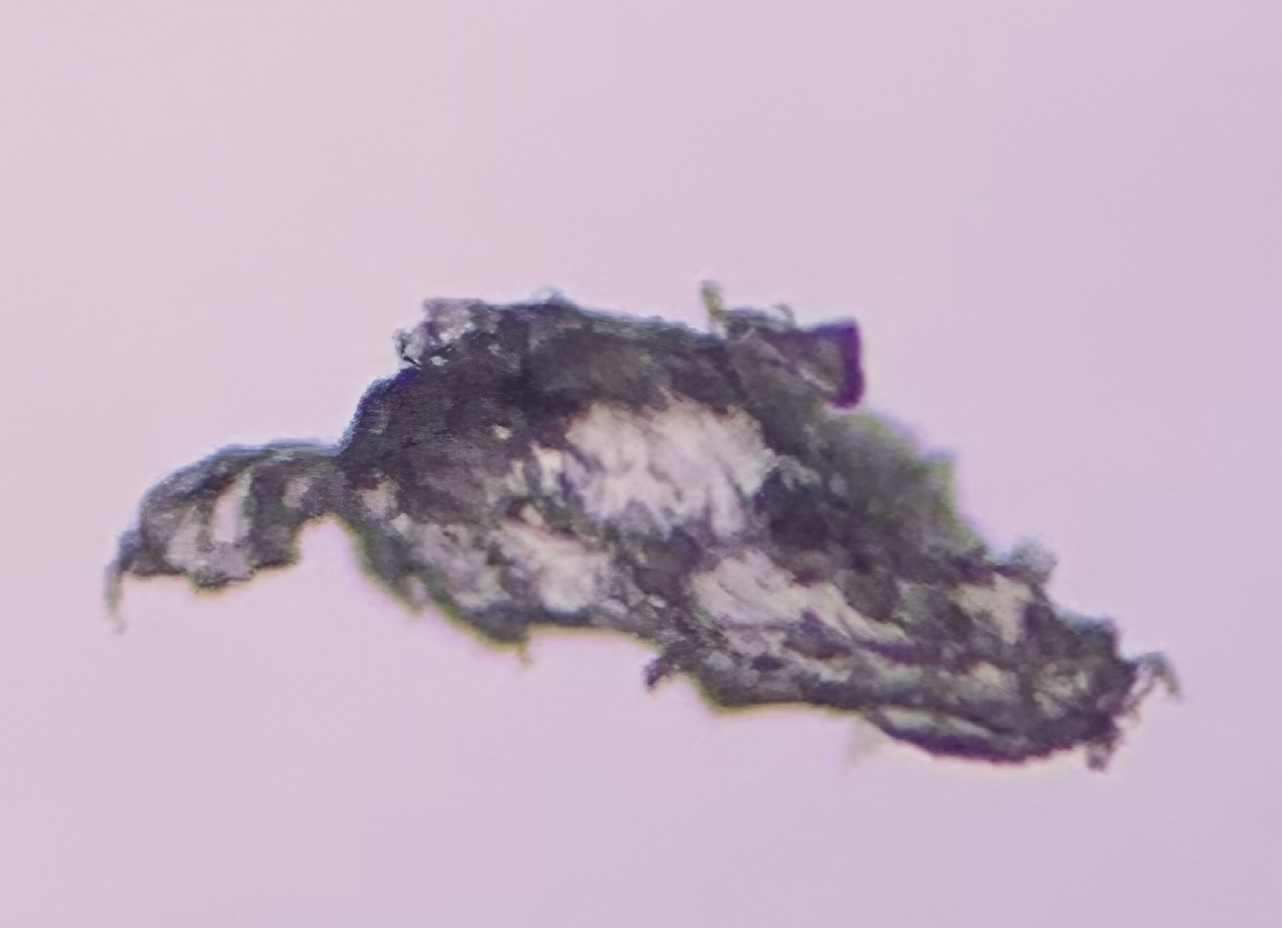microplastic: (100, 275, 1188, 779)
